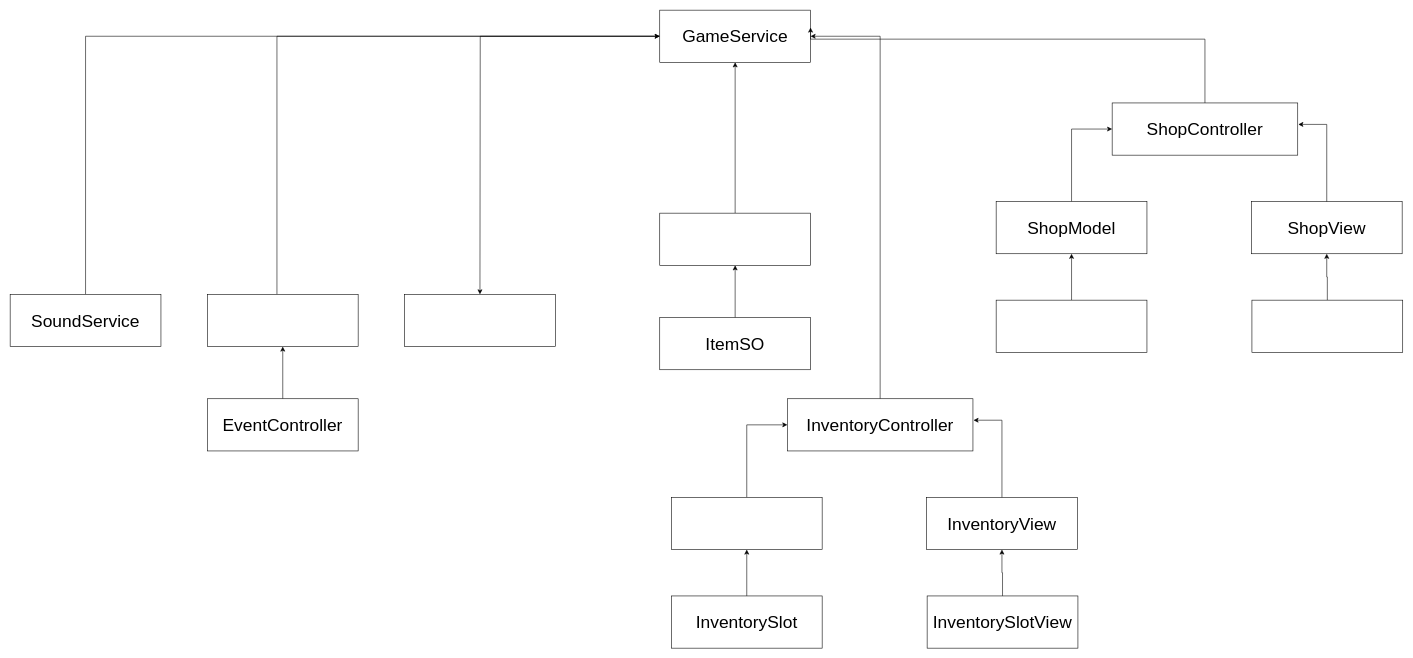
Image size: 1413x658. Some labels were removed from this diagram. Each missing label, with the centre of its shape:
EventService: point 282,320
InventoryModel: point 746,523
ItemDatabase: point 735,239
PlayerController: point 479,320
ShopSlot: point 1071,326
ShopSlotView: point 1327,326
